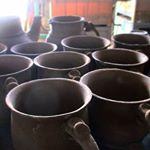cups: (4, 77, 99, 150), (81, 66, 150, 148)
